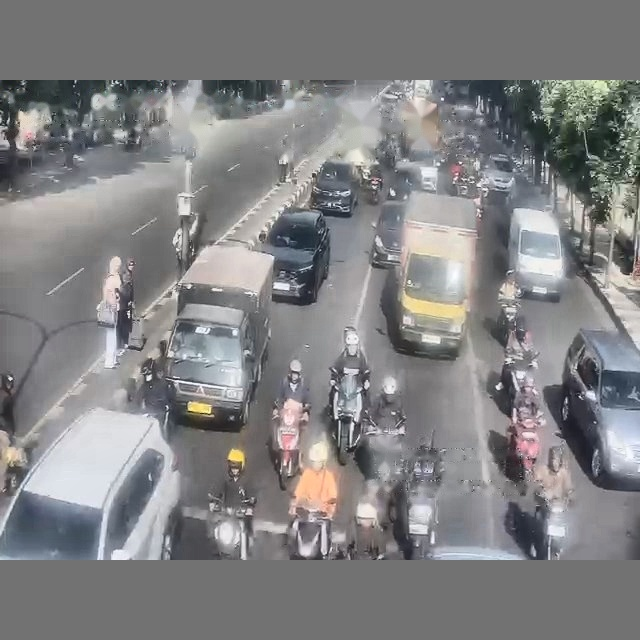Mobil: (0, 408, 181, 559), (561, 329, 639, 485), (260, 208, 330, 303), (310, 159, 359, 216), (370, 201, 405, 266), (481, 154, 516, 205), (408, 145, 439, 192), (430, 546, 526, 560), (387, 162, 421, 201)
Motor: (330, 368, 364, 465), (272, 399, 306, 490), (362, 414, 405, 484), (208, 494, 254, 559), (506, 417, 540, 486), (289, 507, 330, 559), (503, 352, 538, 412), (406, 493, 437, 558), (2, 438, 36, 495), (536, 499, 567, 559), (497, 299, 520, 345), (365, 176, 382, 204)
Truk: (164, 244, 273, 426), (395, 192, 477, 357)
